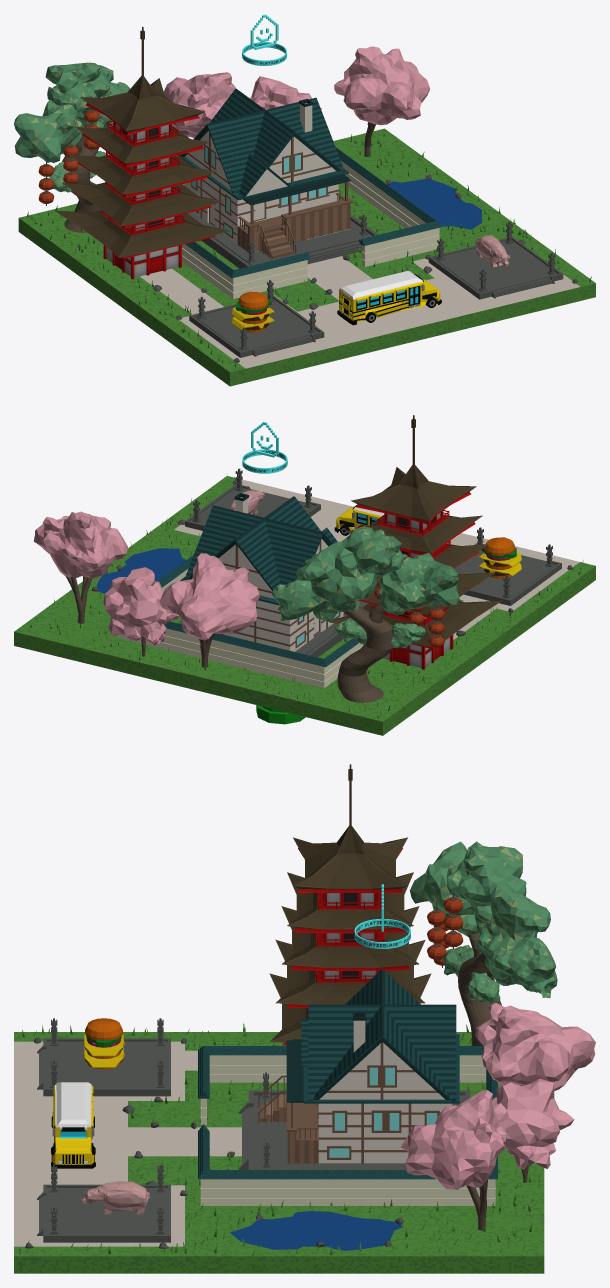
The picture shows the model from 3 angles, top to bottom: view 1: azimuth 30°, elevation 25°; view 2: azimuth 150°, elevation 25°; view 3: azimuth 270°, elevation 25°; orthographic projection. The views are drawn at different scales.
Parts seen in each view (by area): view 1: Cube.005, Cube.793, VEHICLES_SCHOOL_BUS, OBJRANDOM_HAMBURGER, TYPE_PREMIUM, ANIMAL_HIPOPOTAMO; view 2: Cube.005, Cube.793, OBJRANDOM_HAMBURGER, TYPE_PREMIUM, VEHICLES_SCHOOL_BUS, UNDERGROUND_PIPES; view 3: Cube.005, Cube.793, VEHICLES_SCHOOL_BUS, OBJRANDOM_HAMBURGER, ANIMAL_HIPOPOTAMO, TYPE_PREMIUM.
Part boxes in pixels (<box>): Cube.005: <box>14,26,595,386</box>; Cube.793: <box>178,88,353,259</box>; VEHICLES_SCHOOL_BUS: <box>337,271,441,325</box>; OBJRANDOM_HAMBURGER: <box>232,291,274,332</box>; TYPE_PREMIUM: <box>242,14,286,65</box>; ANIMAL_HIPOPOTAMO: <box>475,235,510,267</box>; Cube.005: <box>14,415,595,735</box>; Cube.793: <box>180,493,345,651</box>; OBJRANDOM_HAMBURGER: <box>478,537,521,578</box>; TYPE_PREMIUM: <box>242,421,287,473</box>; VEHICLES_SCHOOL_BUS: <box>334,504,384,535</box>; UNDERGROUND_PIPES: <box>256,705,305,724</box>; Cube.005: <box>14,764,595,1273</box>; Cube.793: <box>258,969,459,1163</box>; VEHICLES_SCHOOL_BUS: <box>51,1082,95,1168</box>; OBJRANDOM_HAMBURGER: <box>83,1018,124,1069</box>; ANIMAL_HIPOPOTAMO: <box>81,1181,149,1215</box>; TYPE_PREMIUM: <box>354,884,410,948</box>.
Bounding box in the file's own units: 4528 × 3273 × 4389.
Materials: 41 (7 with a texture image).
